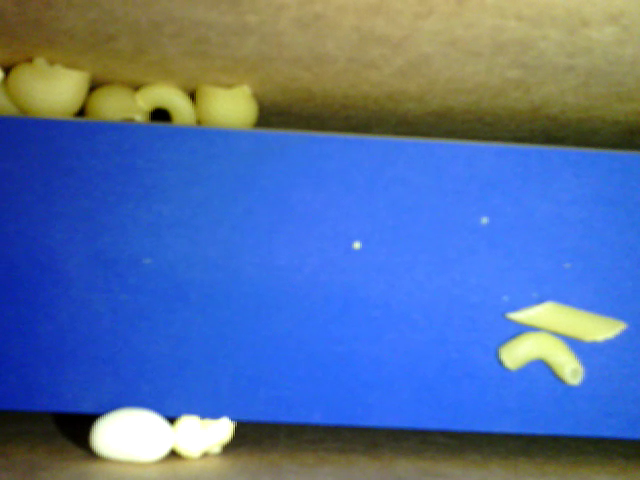elbow: (499, 332, 584, 388), (136, 82, 199, 126)
penne: (502, 300, 629, 343)
shell: (7, 56, 92, 120), (193, 82, 257, 131), (84, 82, 148, 125)
